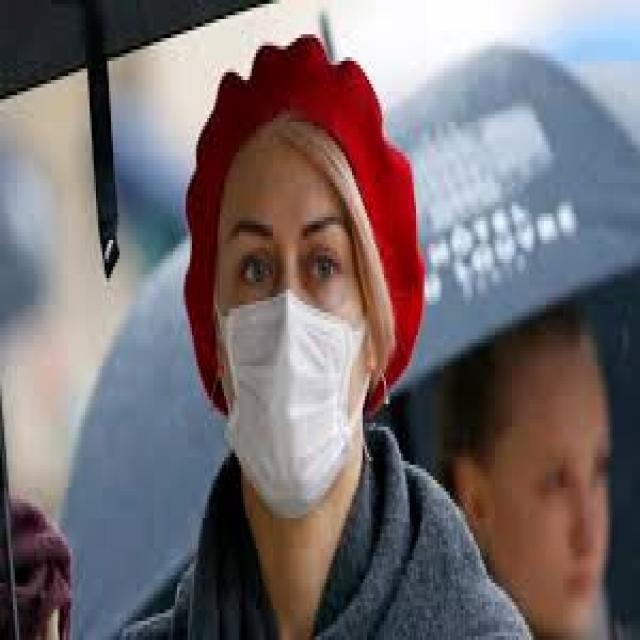suspicious-objects: (203, 269, 355, 519)
